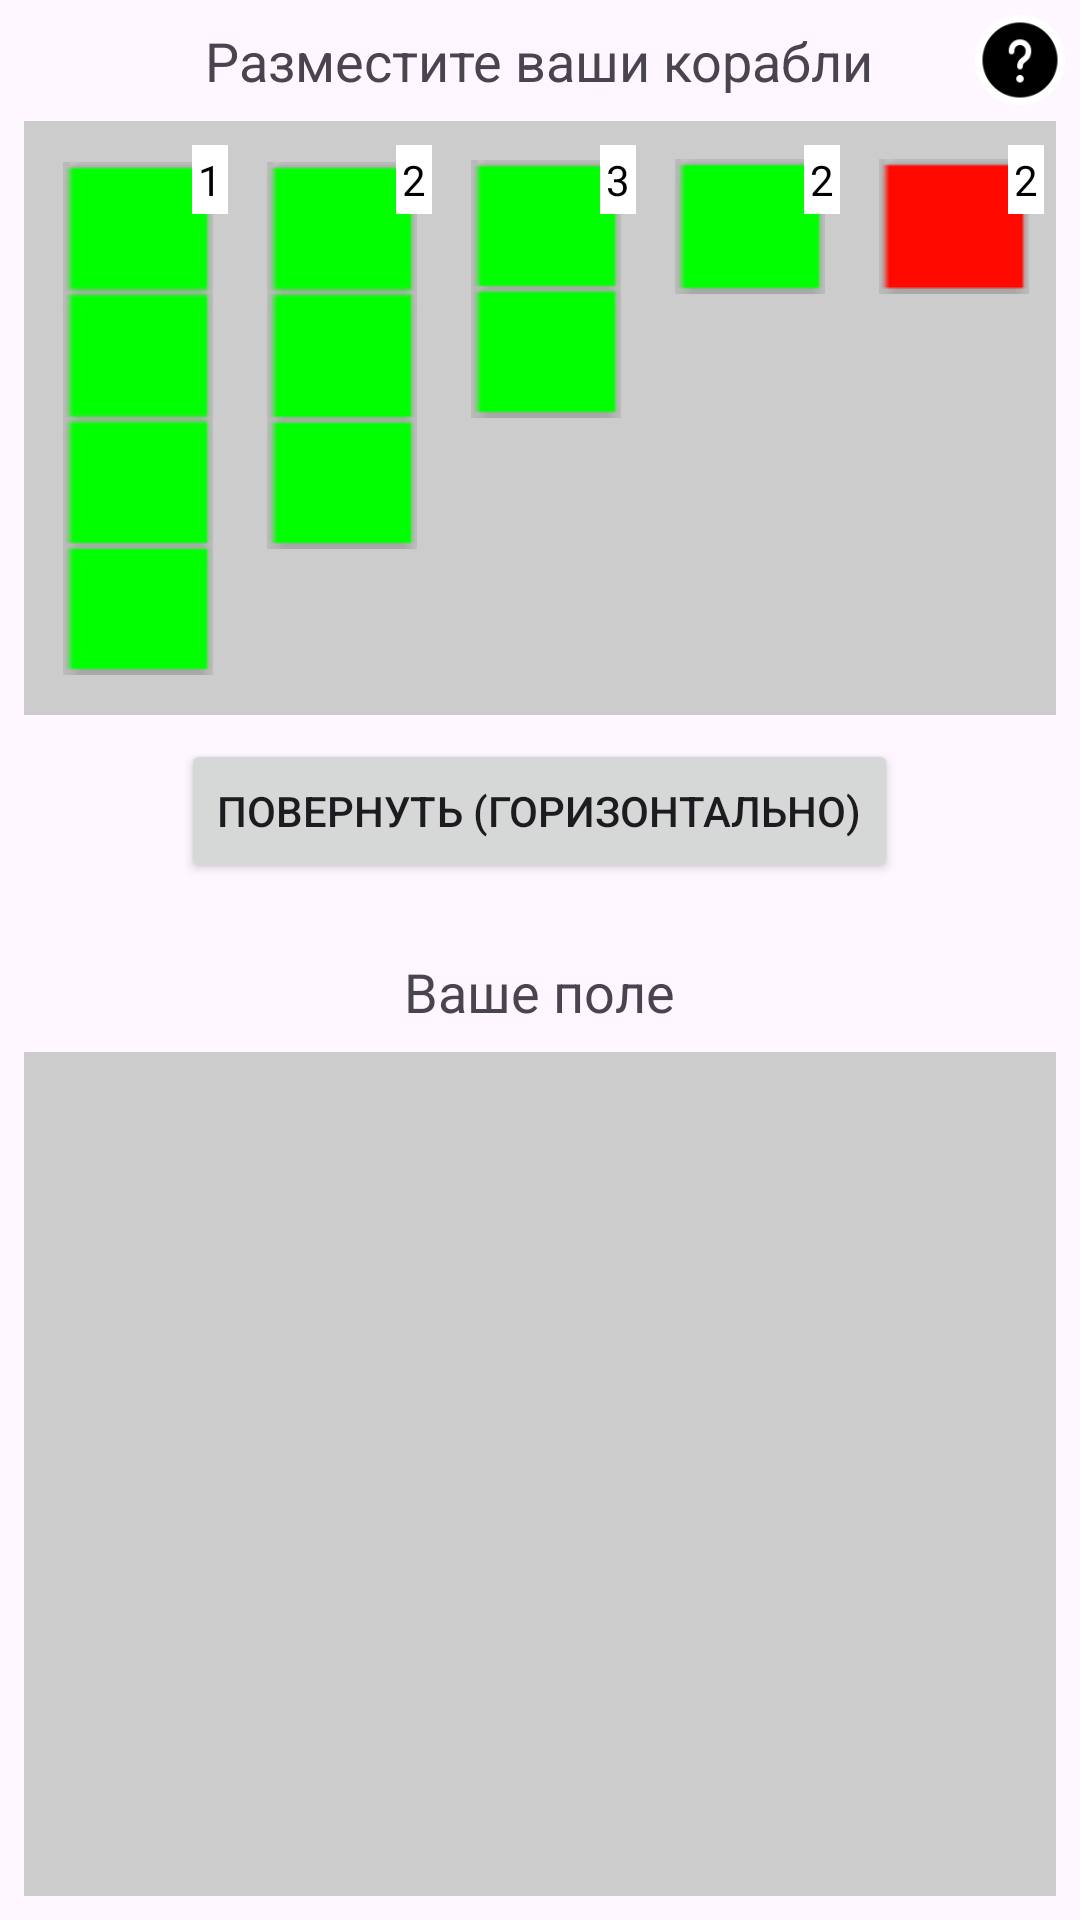

Named icons in this screenshot (1080px×1920px) and their centers, point (x, y):
1-палубный: point (758, 219)
2-палубный: point (554, 281)
Справка: point (1020, 60)
